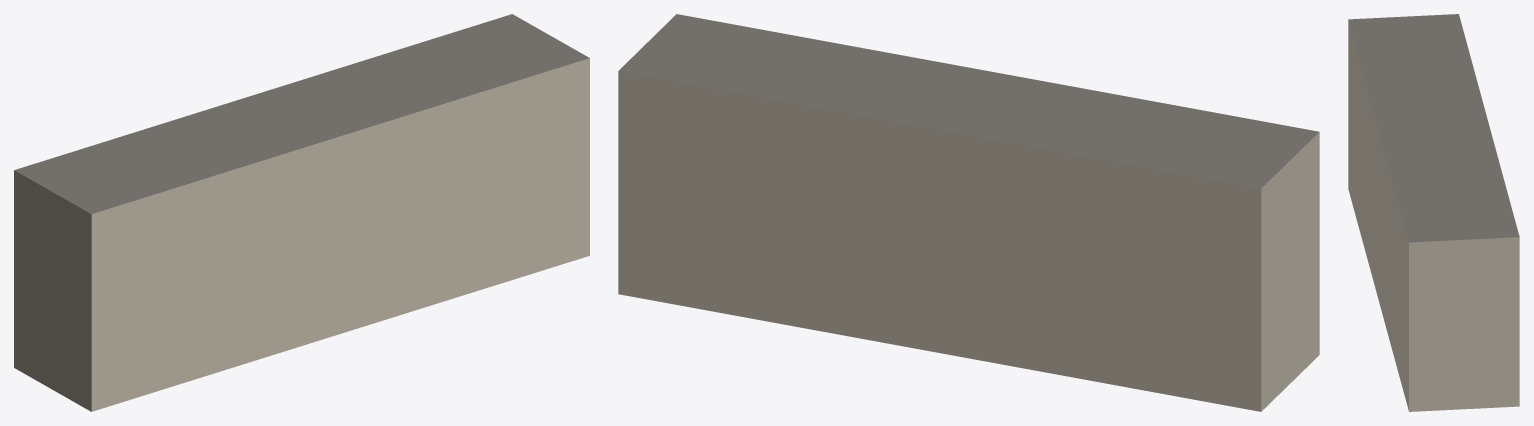
3 renders of one model, left to right at view 1: azimuth 30°, elevation 25°; view 2: azimuth 150°, elevation 25°; view 3: azimuth 270°, elevation 25°, orthographic. The views are drawn at different scales.
Visible parts, largest first — view 1: HP-w859424196; view 2: HP-w859424196; view 3: HP-w859424196.
Boxes of the visible parts, bbox=[...] form: HP-w859424196: bbox=[14, 14, 589, 411]; HP-w859424196: bbox=[618, 14, 1319, 411]; HP-w859424196: bbox=[1348, 14, 1519, 411].
Size of the model in its own units: 52.09 by 18 by 16.51.
